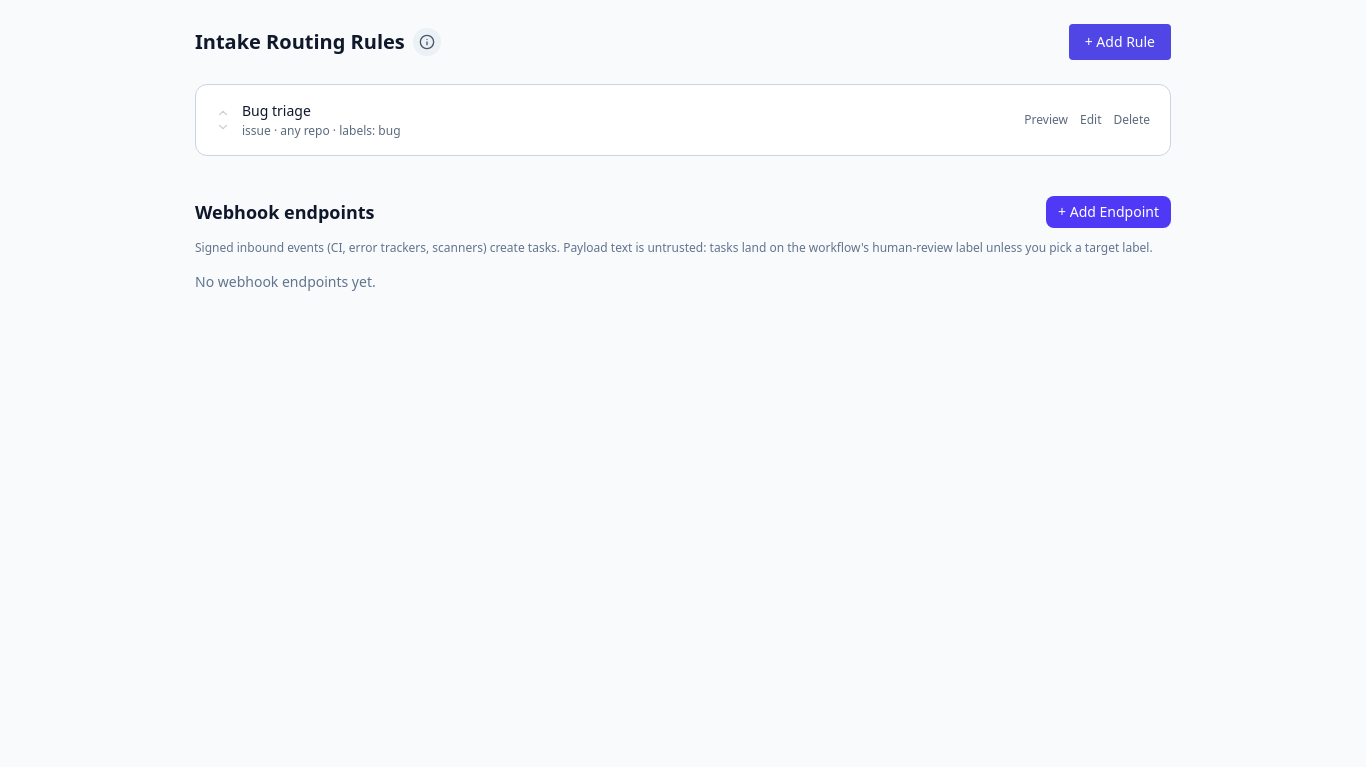
Test: IntakeRulesPage › warns and blocks submission when a schedule-source rule sets a template
Expected: the text "Bug triage" is shown, [242,101,311,120]
Click the button "+ Add Rule" at (1120, 42), box [1069,24,1171,60]
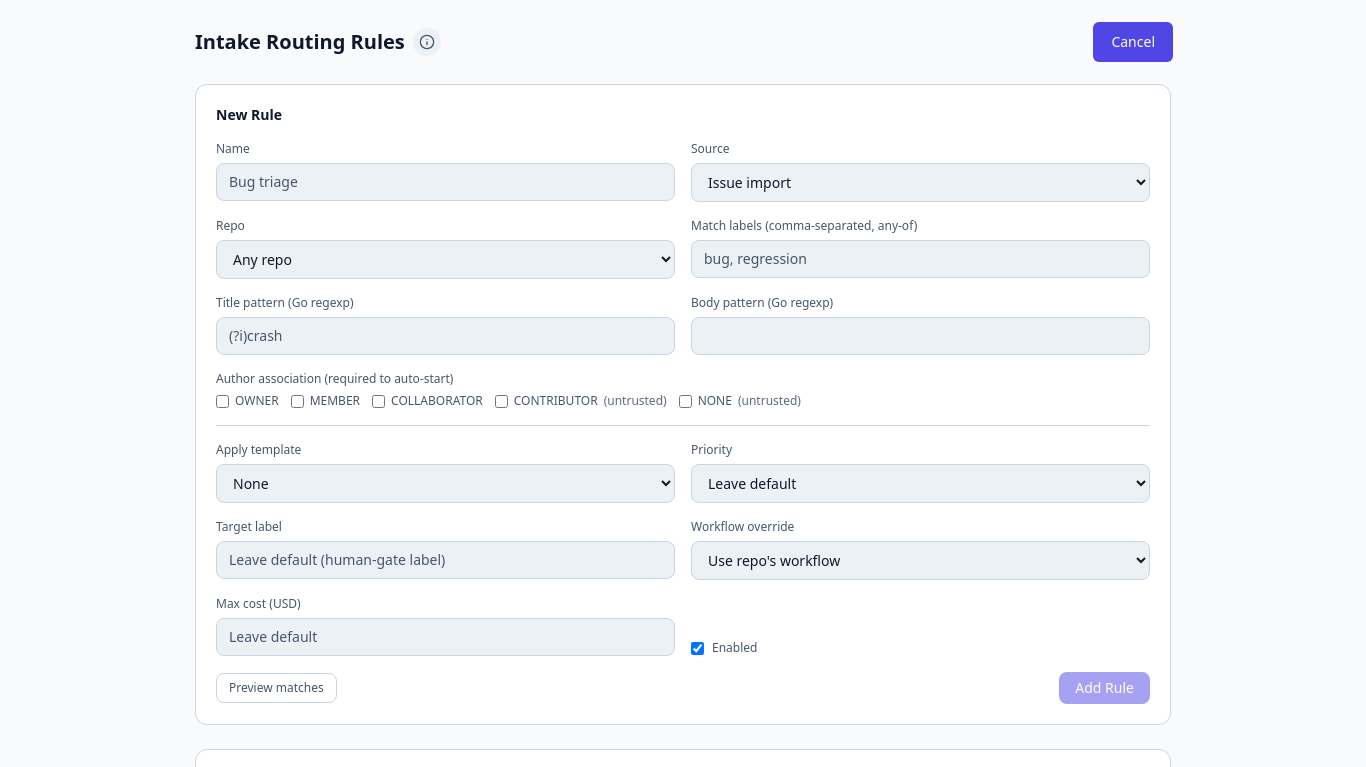
Type "schedule with template" into the field with placeholder "Bug triage" at (446, 182), box [216,163,675,201]
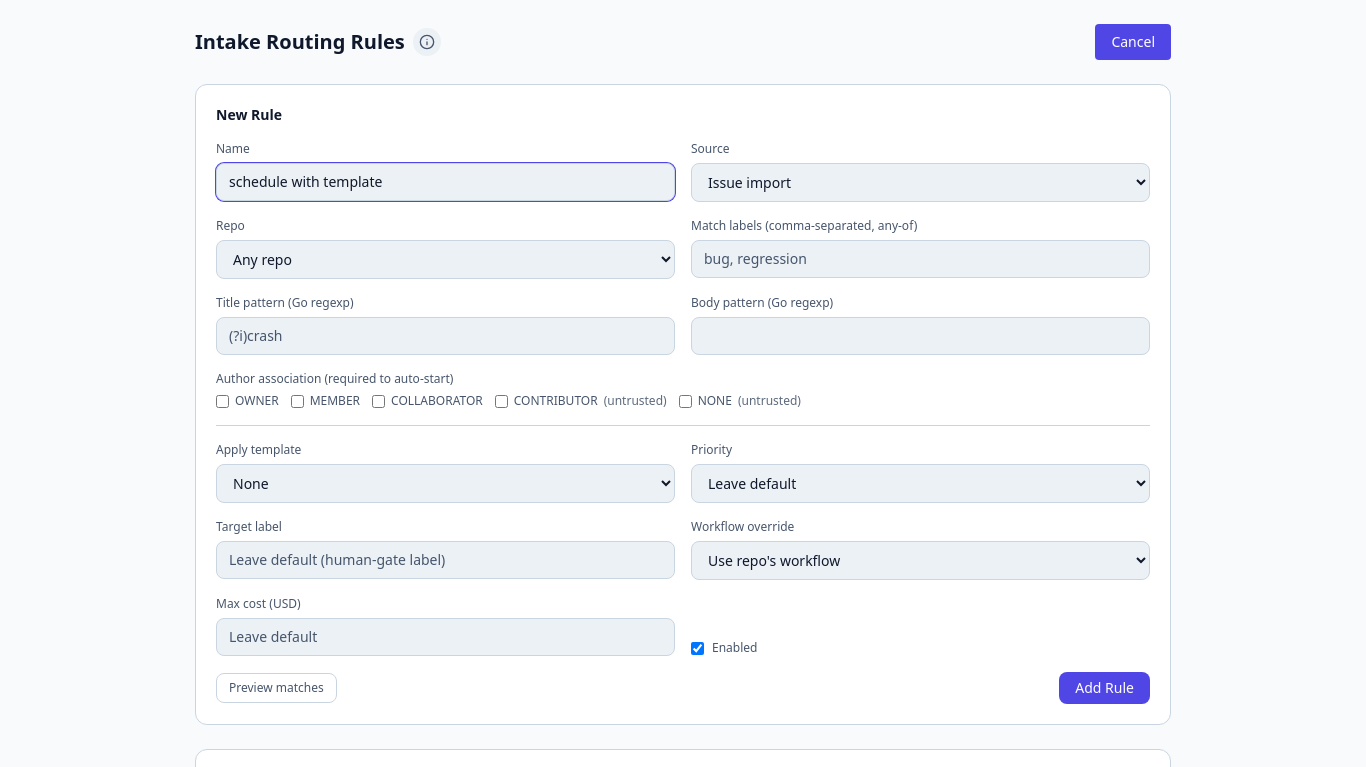
Select "Schedule" in the dropdown showing "Issue import" below "Source" at (920, 182), box [691,163,1150,202]
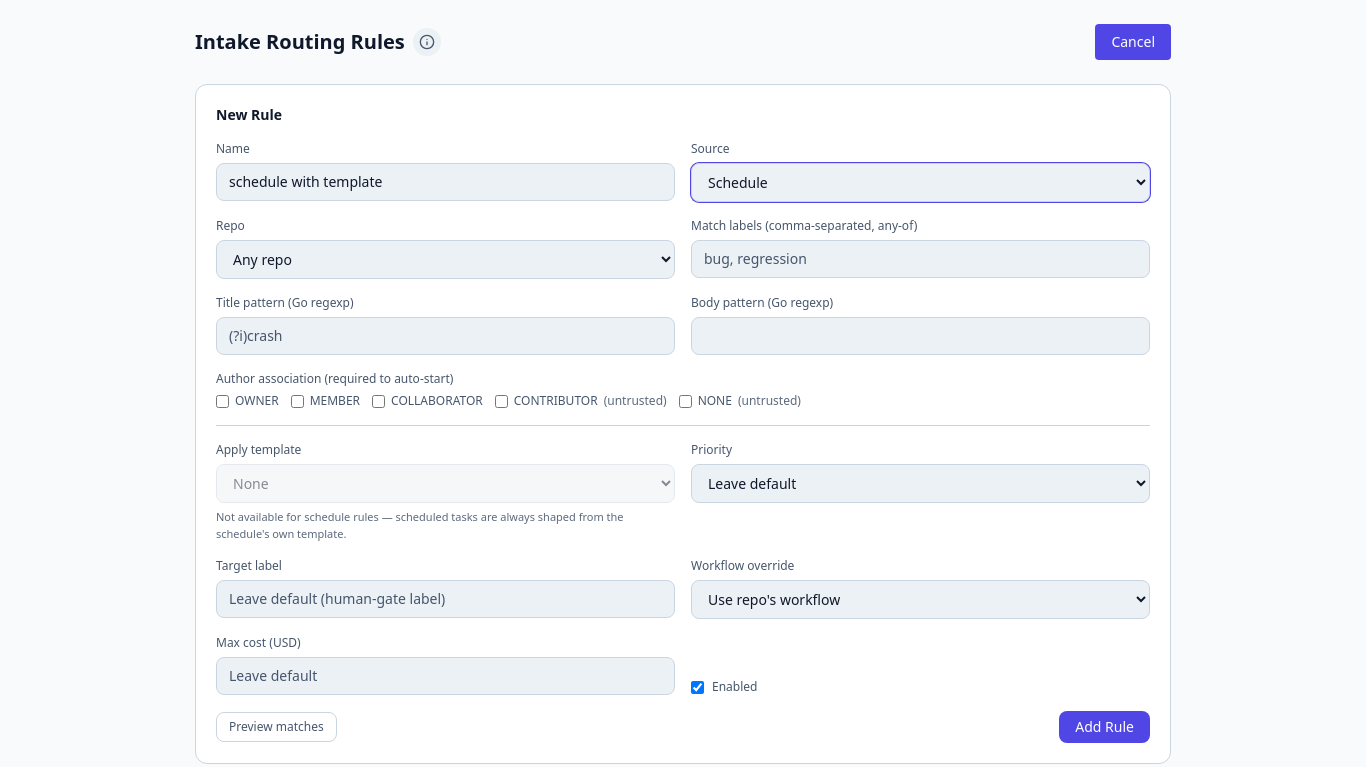
Expected: the dropdown showing "None" below "Apply template" is disabled, [216,464,675,503]
